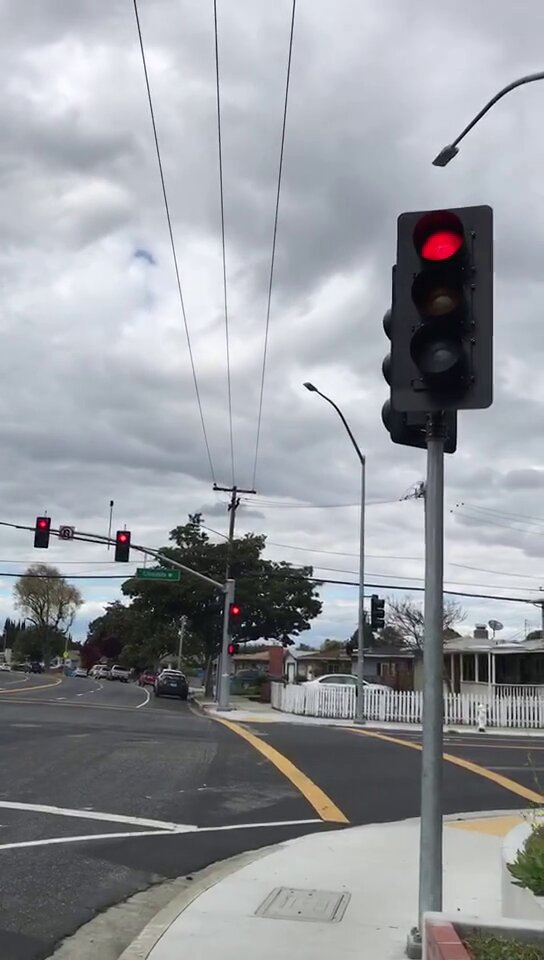red_light: (400, 213, 492, 405), (228, 602, 243, 635), (115, 533, 129, 564), (36, 515, 49, 545)
